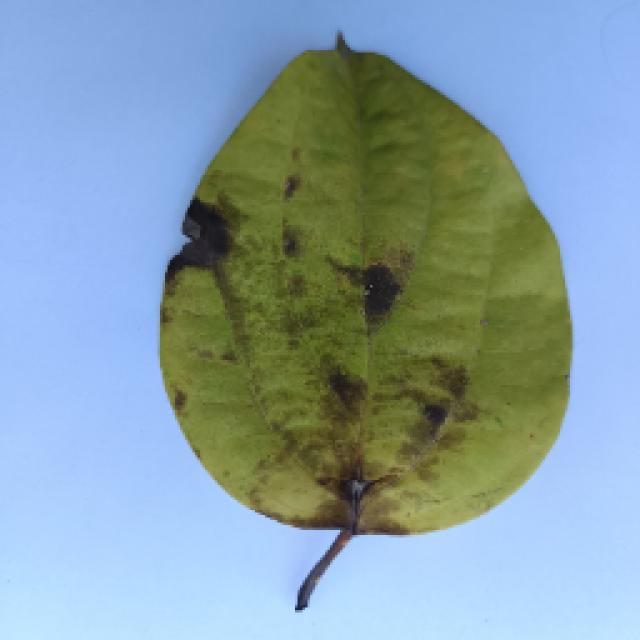slow-decline: (138, 42, 582, 618)
